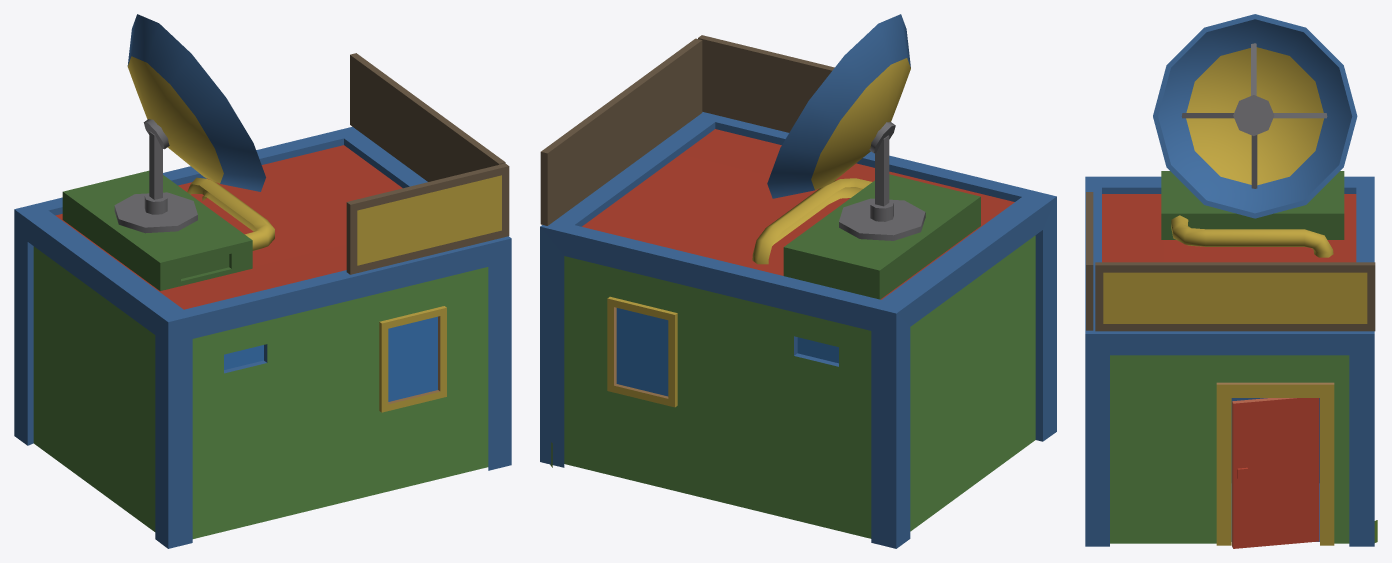
File: Target_RadioStation.fbx
The picture shows the model from 3 angles, left to right: view 1: azimuth 30°, elevation 25°; view 2: azimuth 150°, elevation 25°; view 3: azimuth 270°, elevation 25°; orthographic projection. The views are drawn at different scales.
Parts seen in each view (by area): view 1: Buildings; view 2: Buildings; view 3: Buildings.
Part boxes in pixels (bbox=[...]): Buildings: bbox=[14, 14, 511, 548]; Buildings: bbox=[540, 14, 1056, 548]; Buildings: bbox=[1085, 14, 1377, 548].
Bounding box in the file's own units: 397 × 471 × 301.
